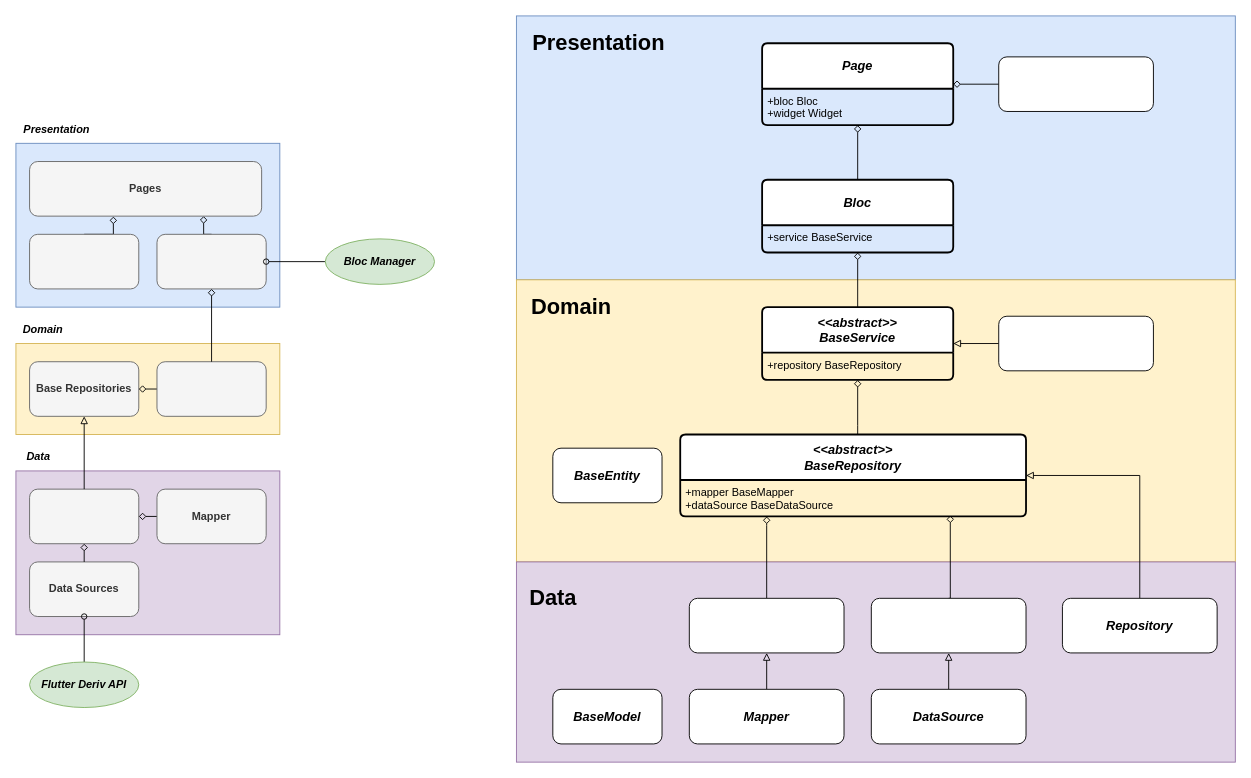
Some shapes in this 1251 by 778 pixel diagram are drawn without their labels. Each missing label, with the centre of its shape:
<<abstract>> BaseDataSource: the point at 948,625
<<abstract>> BaseMapper: the point at 766,625
Blocs: the point at 211,261
Repositories: the point at 84,516
Service: the point at 1075,343
Services: the point at 211,388
Widget: the point at 1075,83
Widgets: the point at 84,261
